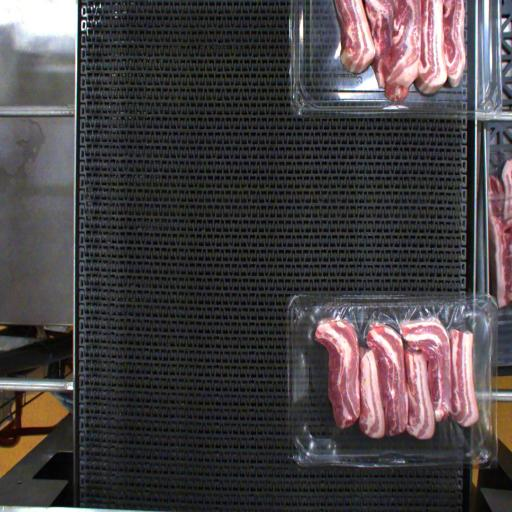unsealed: (288, 292, 497, 462)
